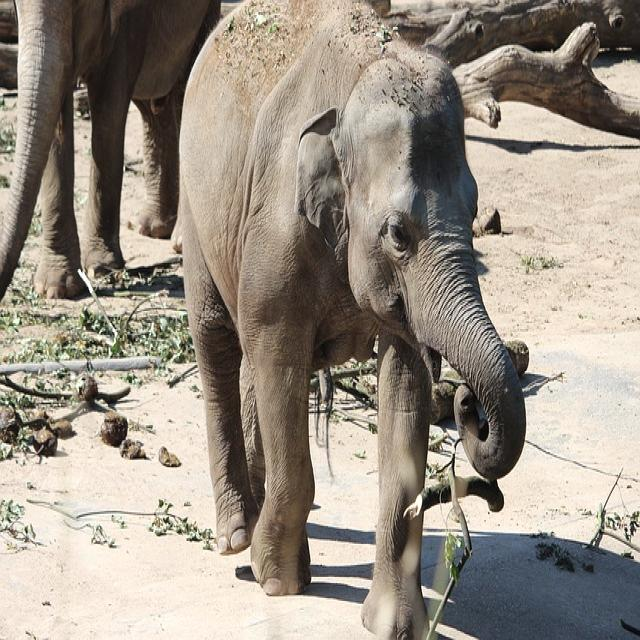FIL: (178, 0, 538, 640)
